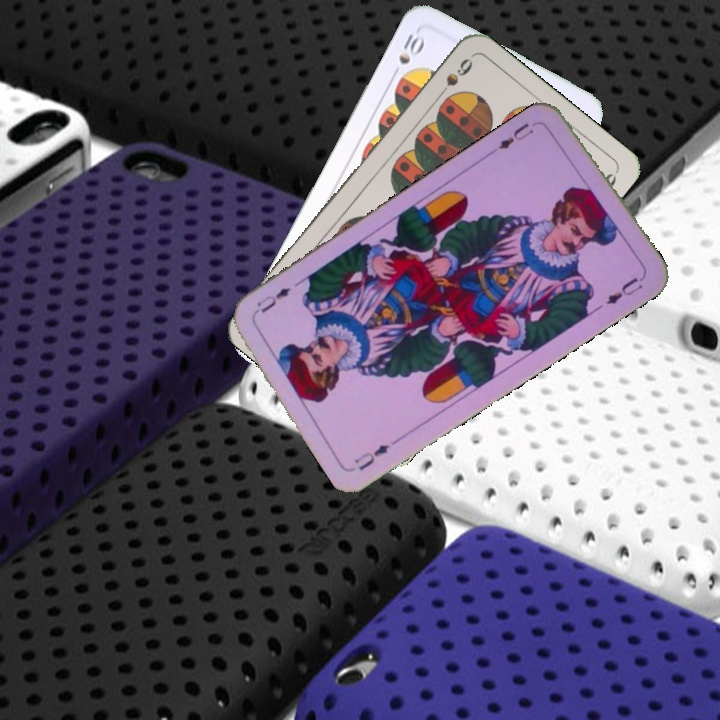EU: (495, 117, 543, 152), (350, 440, 392, 473)
S10: (387, 29, 427, 81)
S9: (432, 54, 475, 103)
